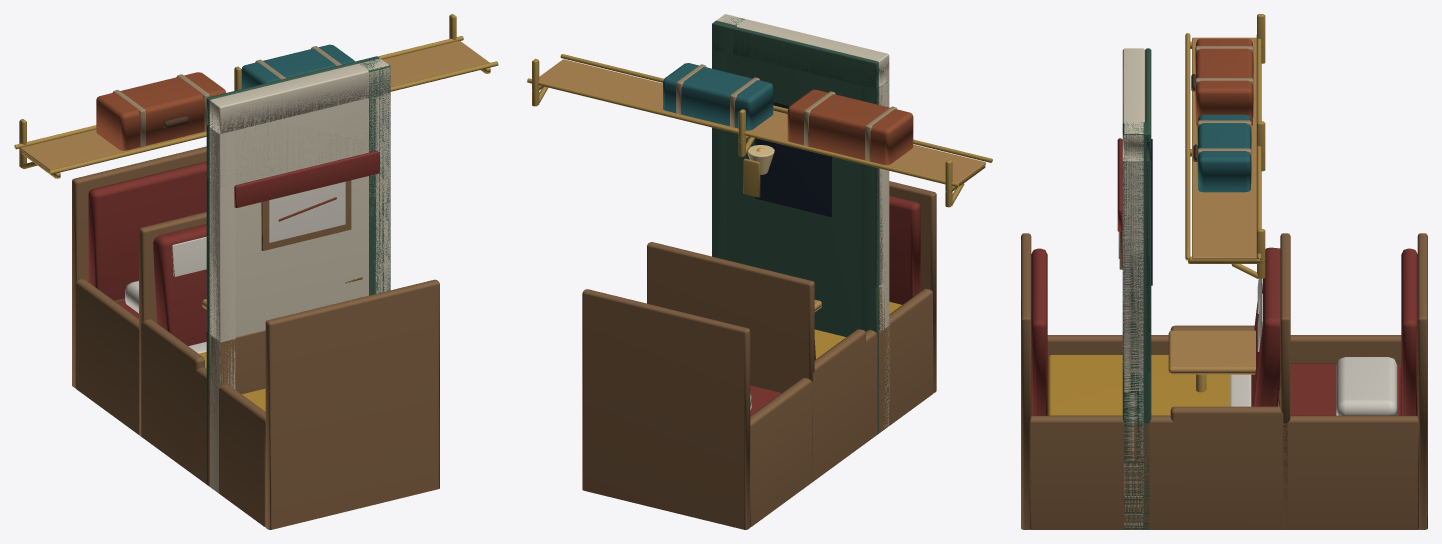
The model's file is train.glb.
3 views of the same model, side by side, from view 1: azimuth 30°, elevation 25°; view 2: azimuth 150°, elevation 25°; view 3: azimuth 270°, elevation 25° (orthographic). The views are drawn at different scales.
Parts seen in each view (by area): view 1: train-berth_mesh, train-wall_mesh, train-door_mesh, train-luggage-rack_mesh, train-seat_mesh, train-wall-window_mesh, train-wall-map_mesh, train-wall-corner_mesh; view 2: train-berth_mesh, train-door_mesh, train-luggage-rack_mesh, train-seat_mesh, train-wall_mesh, train-wall-window_mesh, train-wall-corner_mesh, train-wall-lamp_mesh; view 3: train-berth_mesh, train-luggage-rack_mesh, train-door_mesh, train-seat_mesh, train-wall-corner_mesh, train-wall_mesh, train-table_mesh, train-wall-window_mesh.
Boxes of the visible parts, x1=… form: train-berth_mesh: x1=72, y1=146, x2=439, y2=529; train-wall_mesh: x1=206, y1=68, x2=390, y2=492; train-door_mesh: x1=206, y1=56, x2=390, y2=493; train-luggage-rack_mesh: x1=14, y1=14, x2=498, y2=178; train-seat_mesh: x1=139, y1=212, x2=206, y2=475; train-wall-window_mesh: x1=206, y1=70, x2=390, y2=340; train-wall-map_mesh: x1=261, y1=180, x2=351, y2=250; train-wall-corner_mesh: x1=356, y1=57, x2=390, y2=295; train-berth_mesh: x1=582, y1=181, x2=936, y2=529; train-door_mesh: x1=712, y1=14, x2=889, y2=434; train-luggage-rack_mesh: x1=527, y1=54, x2=992, y2=207; train-seat_mesh: x1=647, y1=242, x2=865, y2=481; train-wall_mesh: x1=712, y1=25, x2=889, y2=433; train-wall-window_mesh: x1=712, y1=31, x2=889, y2=287; train-wall-corner_mesh: x1=712, y1=15, x2=744, y2=261; train-wall-lamp_mesh: x1=743, y1=145, x2=774, y2=197; train-berth_mesh: x1=1021, y1=233, x2=1427, y2=529; train-luggage-rack_mesh: x1=1185, y1=14, x2=1265, y2=278; train-door_mesh: x1=1122, y1=48, x2=1152, y2=529; train-seat_mesh: x1=1170, y1=233, x2=1290, y2=529; train-wall-corner_mesh: x1=1122, y1=122, x2=1151, y2=529; train-wall_mesh: x1=1122, y1=135, x2=1151, y2=521; train-table_mesh: x1=1168, y1=330, x2=1280, y2=406; train-wall-window_mesh: x1=1117, y1=137, x2=1150, y2=373.
Bounding box in the file's own units: 2.6 × 2.15 × 2.
